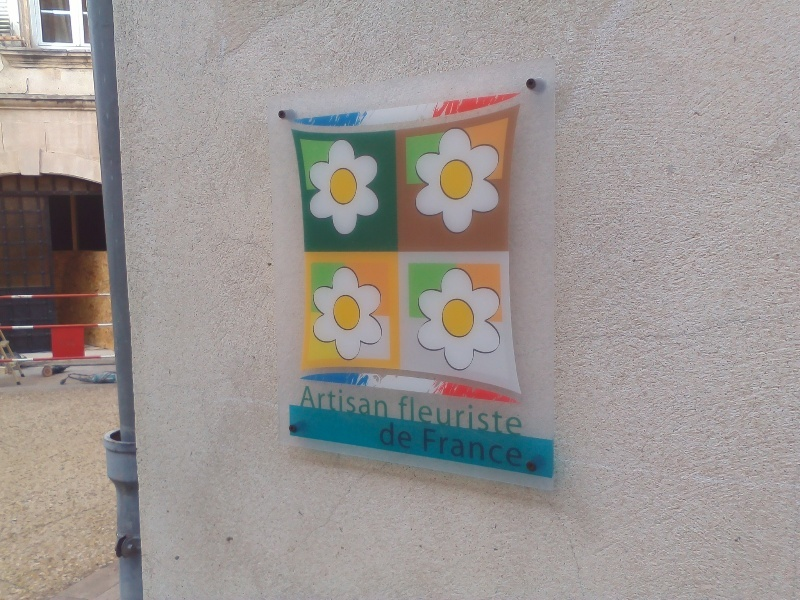text: (433, 426, 448, 472), (449, 426, 464, 472), (465, 426, 480, 472), (481, 426, 496, 472), (497, 426, 512, 472), (401, 395, 416, 438), (417, 395, 432, 438), (433, 395, 448, 438), (449, 395, 464, 438), (465, 395, 480, 438), (481, 395, 496, 438), (497, 395, 512, 438), (513, 426, 527, 472), (513, 395, 526, 438), (305, 384, 320, 419), (321, 384, 336, 419), (337, 384, 352, 419), (353, 384, 368, 419), (369, 384, 384, 419), (385, 419, 400, 452), (422, 426, 432, 472), (401, 419, 413, 452), (385, 384, 390, 419), (301, 384, 304, 419), (381, 419, 384, 452), (399, 395, 400, 438)
